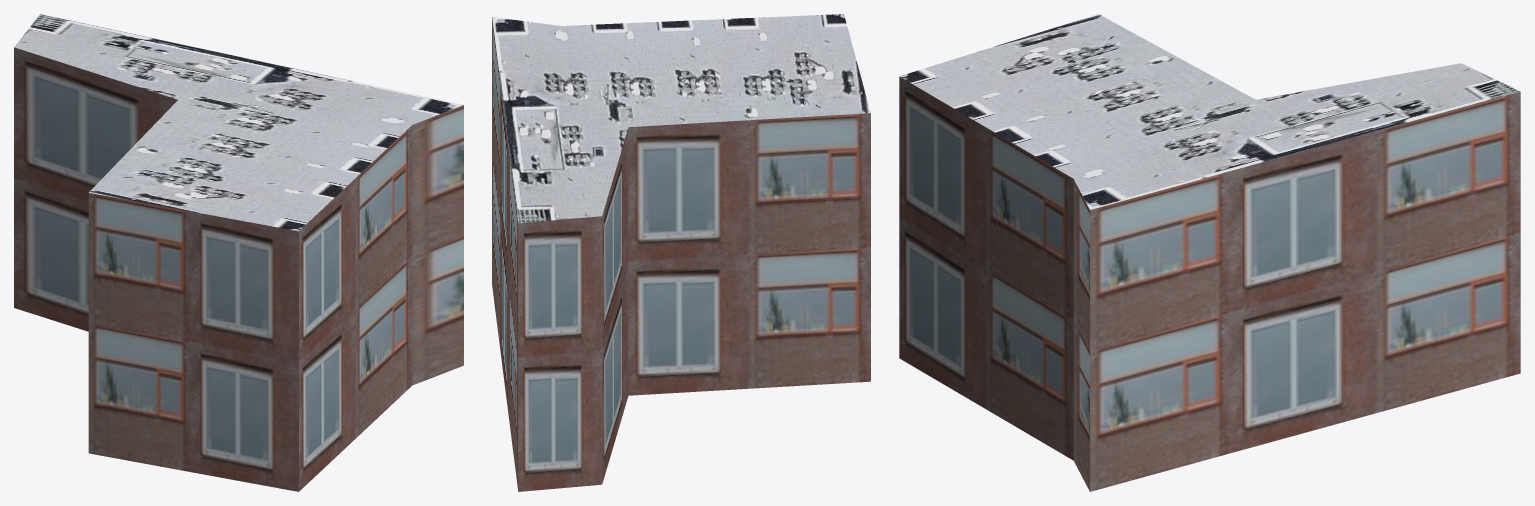
File: ResTex__3493.fbx
3 views of the same model, side by side, from view 1: azimuth 30°, elevation 25°; view 2: azimuth 150°, elevation 25°; view 3: azimuth 270°, elevation 25° (orthographic). The views are drawn at different scales.
Visible parts, largest first — view 1: CityEngineMaterial_19_m, CityEngineMaterial_15_m; view 2: CityEngineMaterial_19_m, CityEngineMaterial_15_m; view 3: CityEngineMaterial_19_m, CityEngineMaterial_15_m.
Boxes of the visible parts, bbox=[...] form: CityEngineMaterial_19_m: bbox=[14, 47, 463, 491]; CityEngineMaterial_15_m: bbox=[14, 14, 463, 231]; CityEngineMaterial_19_m: bbox=[492, 17, 870, 491]; CityEngineMaterial_15_m: bbox=[492, 14, 870, 223]; CityEngineMaterial_19_m: bbox=[899, 76, 1520, 491]; CityEngineMaterial_15_m: bbox=[899, 14, 1520, 209].
Size of the model in its own units: 8.95 by 6 by 11.99.
2 materials, 2 textured.
